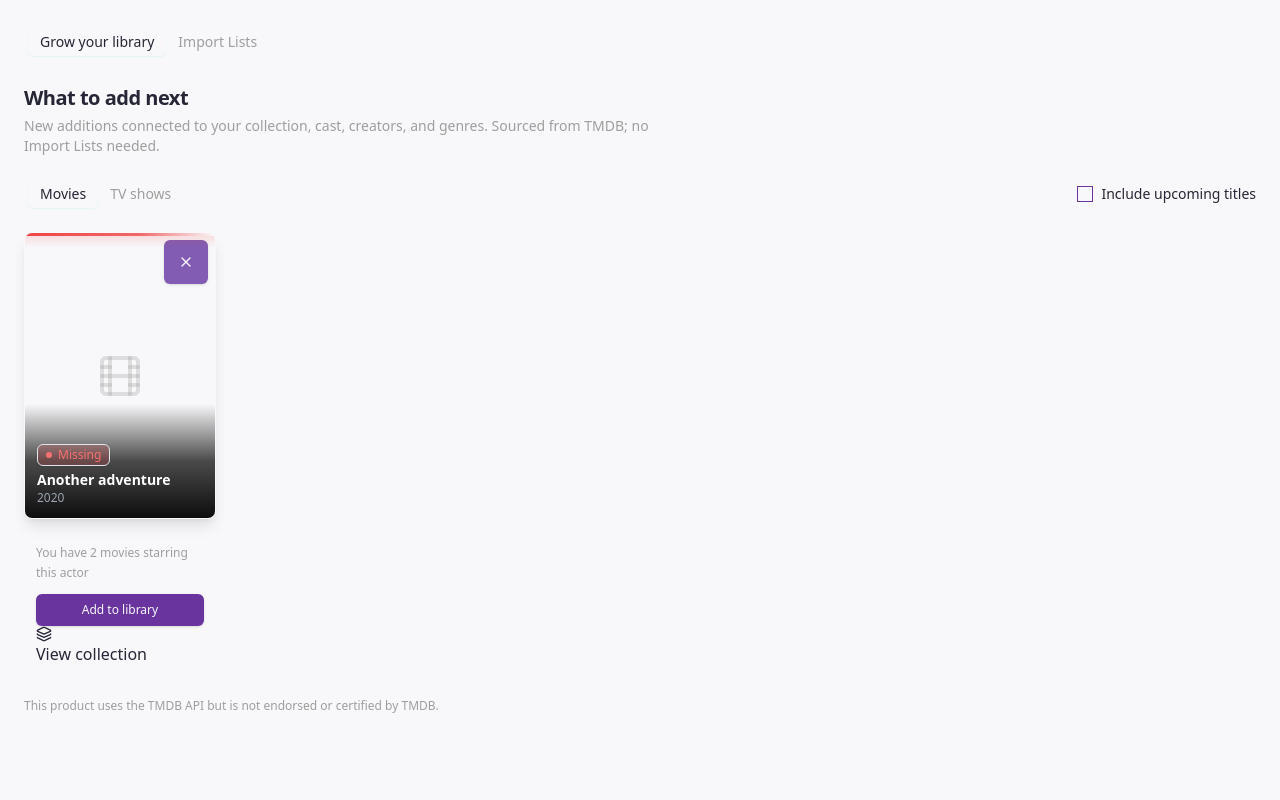
Test: Discover recommendations › uses the live library acquisition status for an already-added import-list movie
Click the tab "Import Lists".
click(218, 42)  # box x1=166 y1=28 x2=269 y2=56
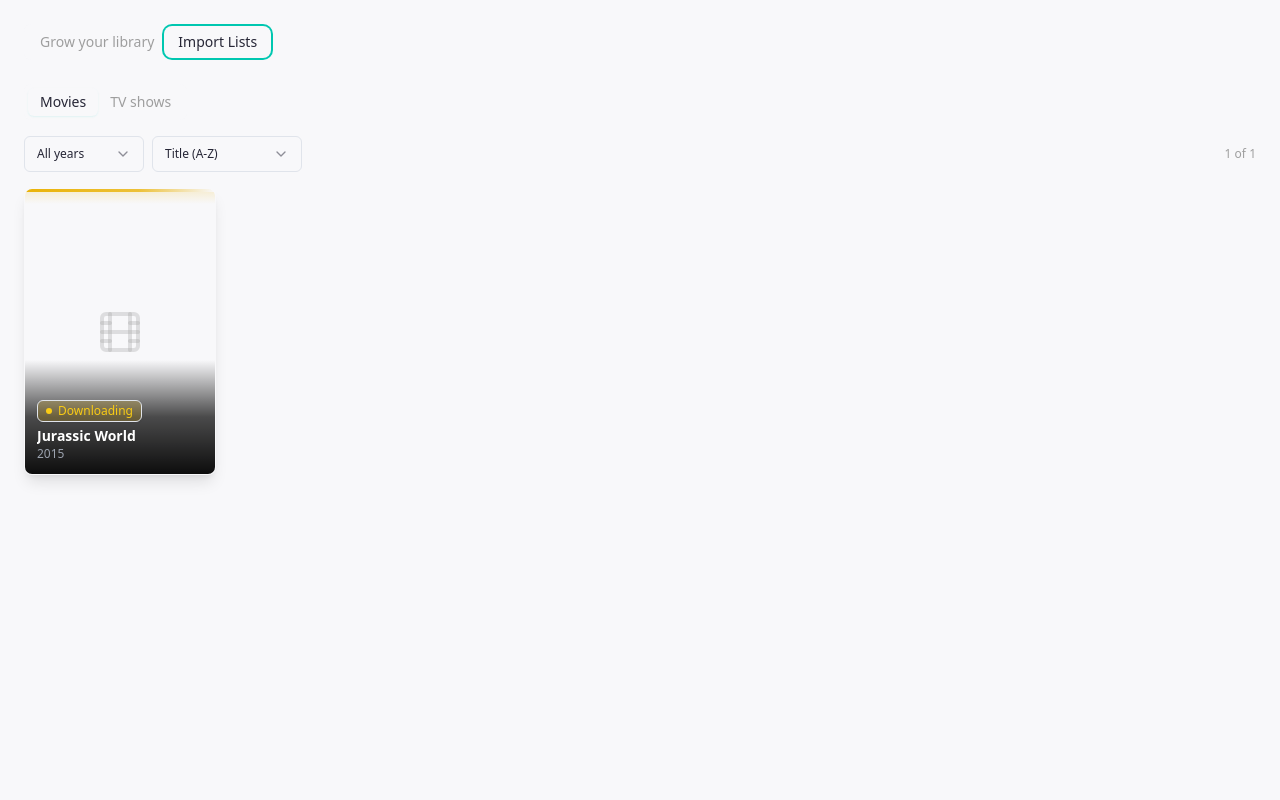
Expected: the button with aria-label "View details for Jurassic World" shows "Downloading", x1=24 y1=188 x2=216 y2=475
Expected: the button with aria-label "View details for Jurassic World" no longer shows "Missing", x1=24 y1=188 x2=216 y2=475
